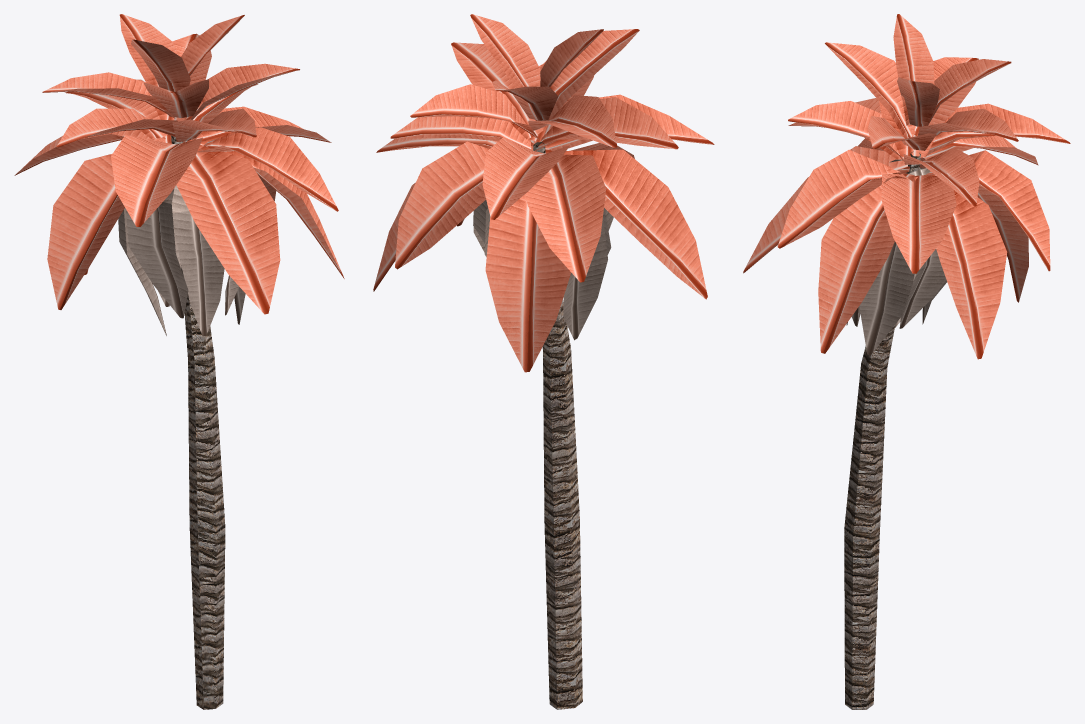
File: VEG0210002.fbx
3 views of the same model, side by side, from view 1: azimuth 30°, elevation 25°; view 2: azimuth 150°, elevation 25°; view 3: azimuth 270°, elevation 25° (orthographic). The views are drawn at different scales.
Visible parts, largest first — view 1: smVEG0210002; view 2: smVEG0210002; view 3: smVEG0210002.
Part boxes in pixels (<box>): smVEG0210002: <box>14,14,344,709</box>; smVEG0210002: <box>373,14,714,709</box>; smVEG0210002: <box>743,14,1070,709</box>.
Size of the model in its own units: 257 by 558 by 249.
1 material, 1 textured.
